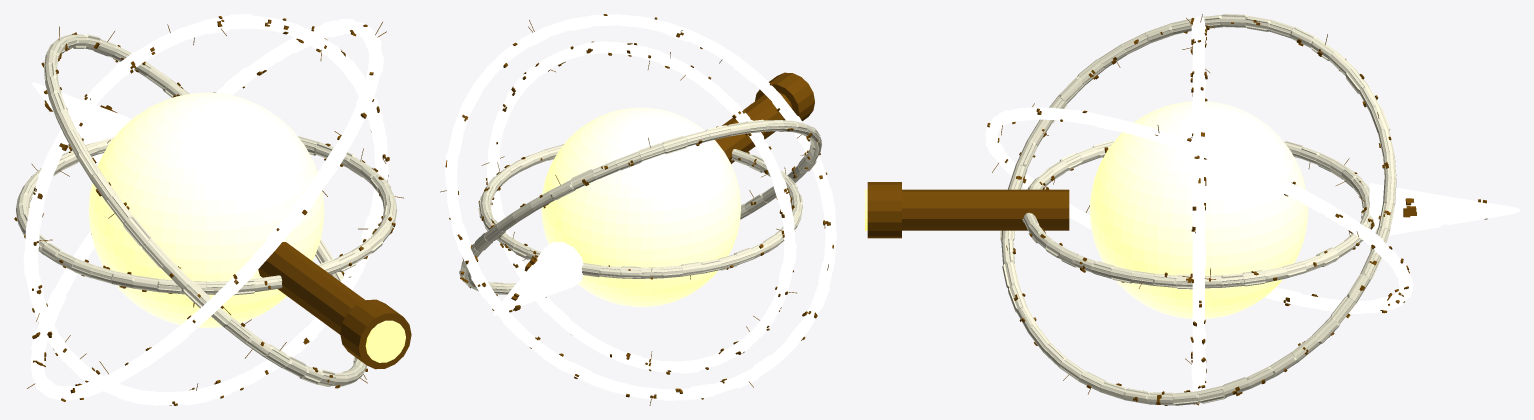
File: quorai_cruiser.glb
3 views of the same model, side by side, from view 1: azimuth 30°, elevation 25°; view 2: azimuth 150°, elevation 25°; view 3: azimuth 270°, elevation 25° (orthographic). The views are drawn at different scales.
Visible parts, largest first — view 1: quorai_cruiser; view 2: quorai_cruiser; view 3: quorai_cruiser.
Part boxes in pixels (bbox=[...]): quorai_cruiser: bbox=[14, 14, 411, 405]; quorai_cruiser: bbox=[440, 14, 836, 405]; quorai_cruiser: bbox=[865, 14, 1519, 405].
Size of the model in its own units: 5.94 by 6 by 10.
